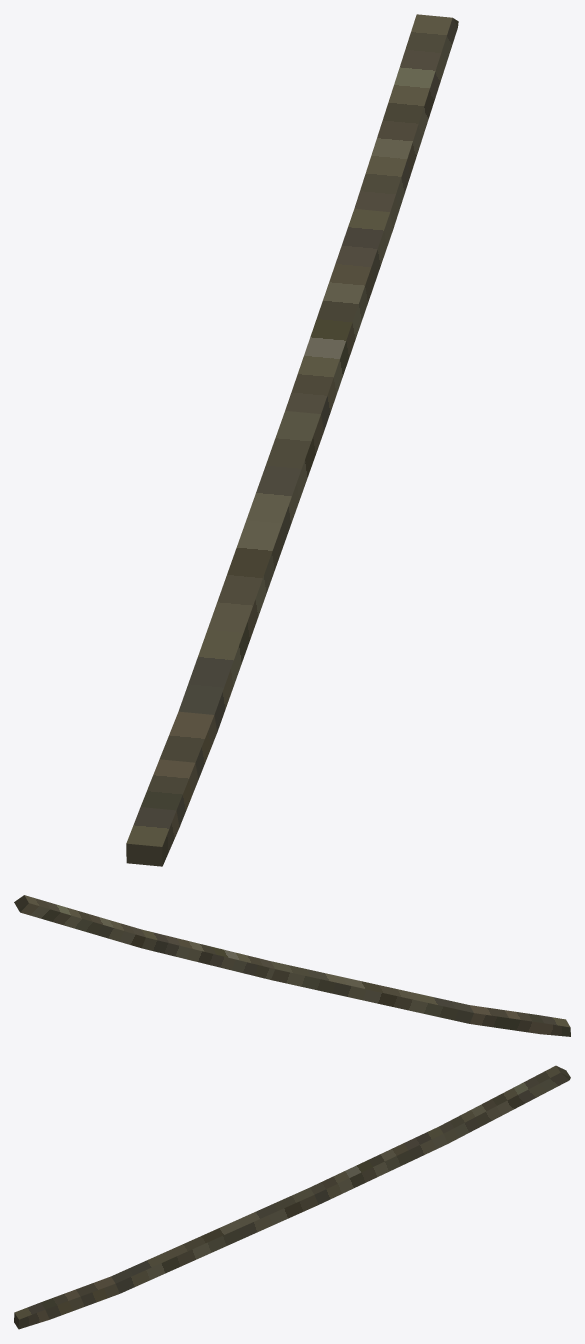
Rendered from rope_2wide_diag_45.obj.
The picture shows the model from 3 angles, top to bottom: view 1: azimuth 30°, elevation 25°; view 2: azimuth 150°, elevation 25°; view 3: azimuth 330°, elevation 25°; orthographic projection. The views are drawn at different scales.
Visible parts, largest first — view 1: cube; view 2: cube; view 3: cube.
Part boxes in pixels (bbox=[...]): cube: bbox=[126, 14, 458, 866]; cube: bbox=[14, 895, 570, 1036]; cube: bbox=[14, 1065, 570, 1329].
Size of the model in its own units: 2.09 by 1.08 by 2.1.
